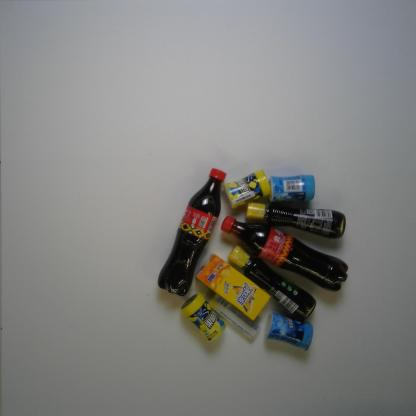Candy: (208, 292, 260, 340)
Drink: (218, 215, 348, 293), (156, 167, 225, 297), (197, 254, 272, 321)
Gum: (179, 292, 226, 342), (222, 170, 271, 209), (264, 314, 314, 351), (268, 174, 315, 203)
Seasoner: (227, 246, 317, 320), (244, 202, 347, 240)
